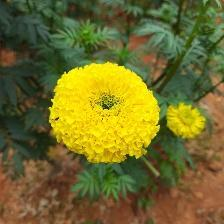marigold: (47, 63, 163, 168)
